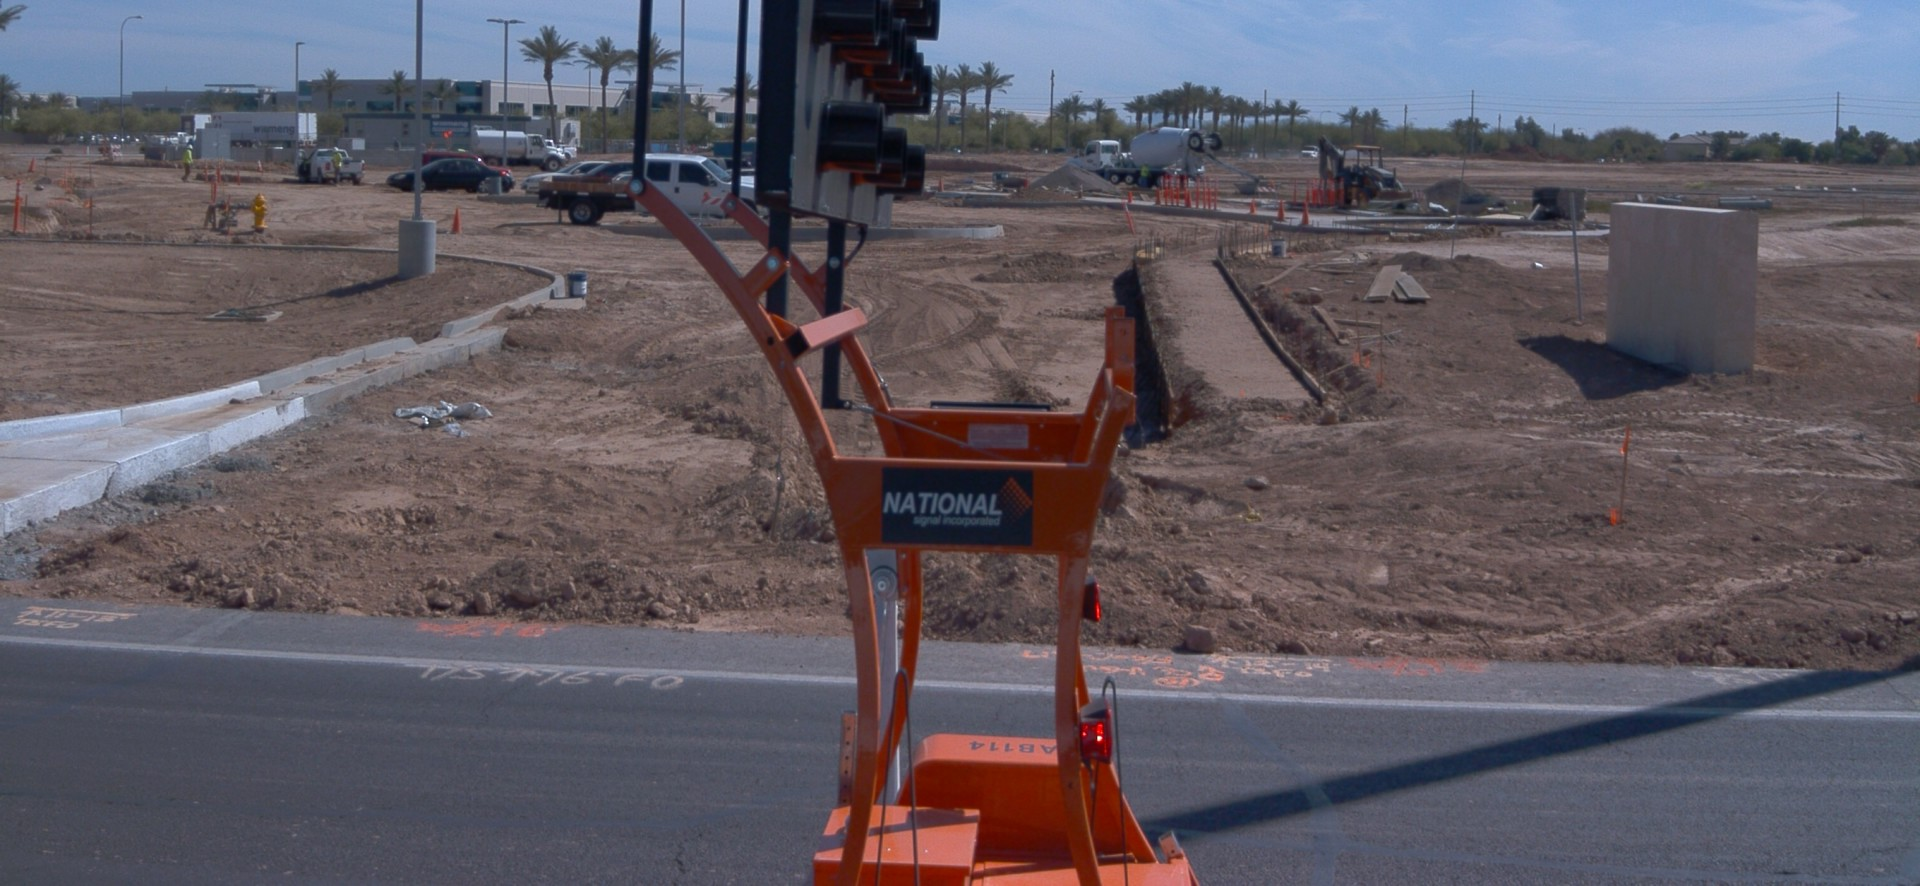TYPE_PEDESTRIAN: (328, 147, 343, 187), (182, 141, 196, 183), (1138, 158, 1151, 189)
TYPE_VEHICLE: (578, 0, 1219, 886), (541, 154, 778, 225), (1066, 120, 1264, 187), (1316, 131, 1410, 213), (62, 113, 211, 156), (207, 108, 317, 161), (469, 123, 569, 175), (383, 156, 508, 195), (742, 175, 842, 219), (421, 150, 517, 191), (524, 158, 611, 198), (299, 149, 373, 192), (774, 165, 869, 198), (581, 161, 648, 185), (540, 136, 581, 164), (703, 162, 753, 179), (1295, 144, 1316, 160), (723, 169, 758, 174), (519, 177, 531, 189)
